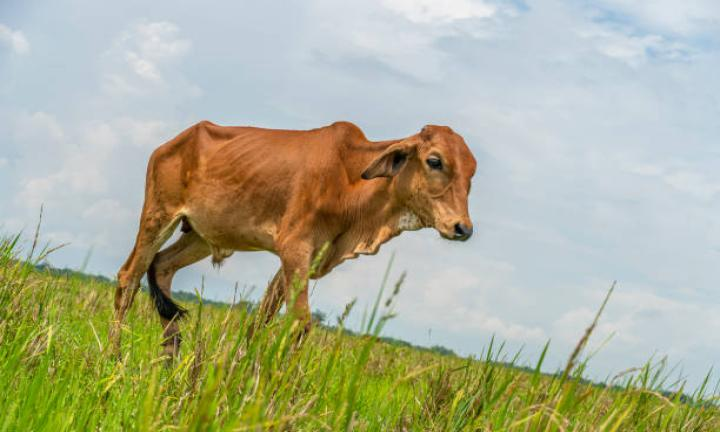Brahman: (115, 122, 475, 354)
